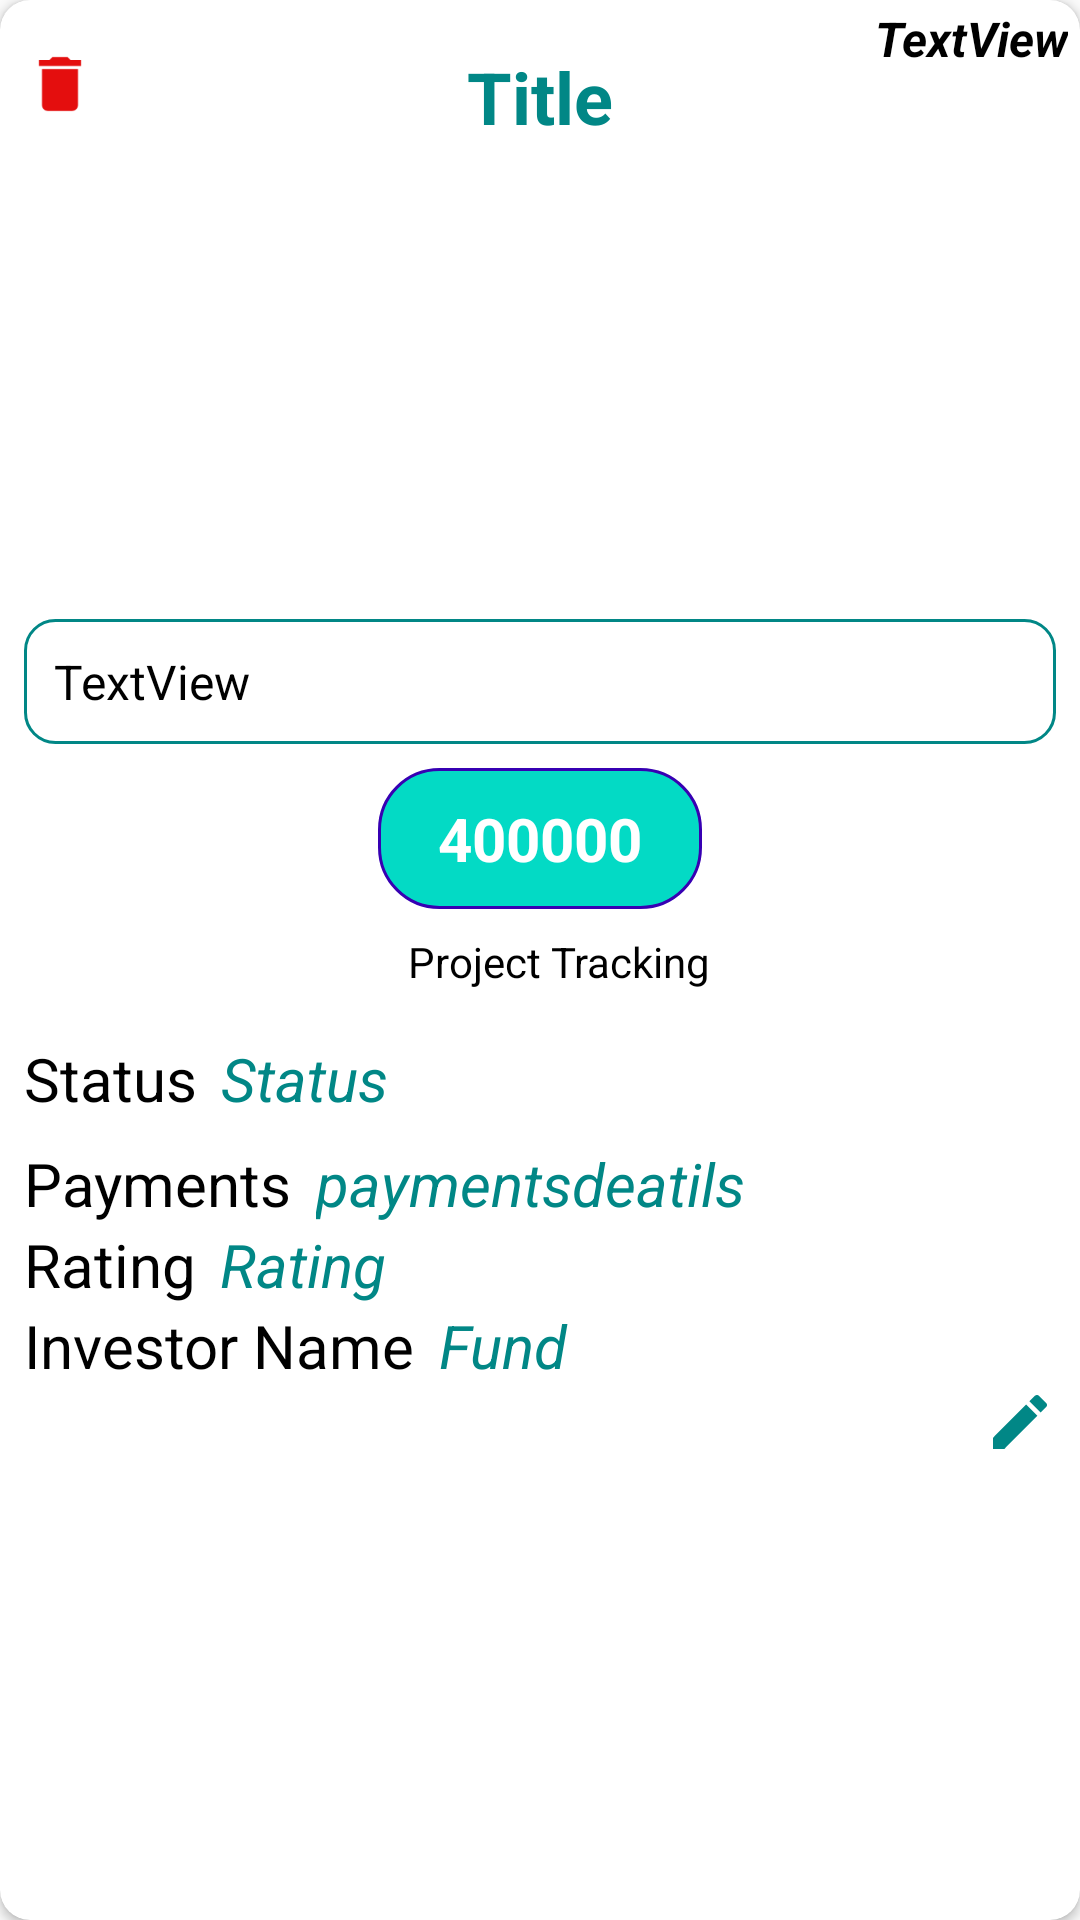

Screen size 1080x1920. Icon name, then its center in pixels as [x,y]:
delete: [60,84]
edit: [1020,1422]
